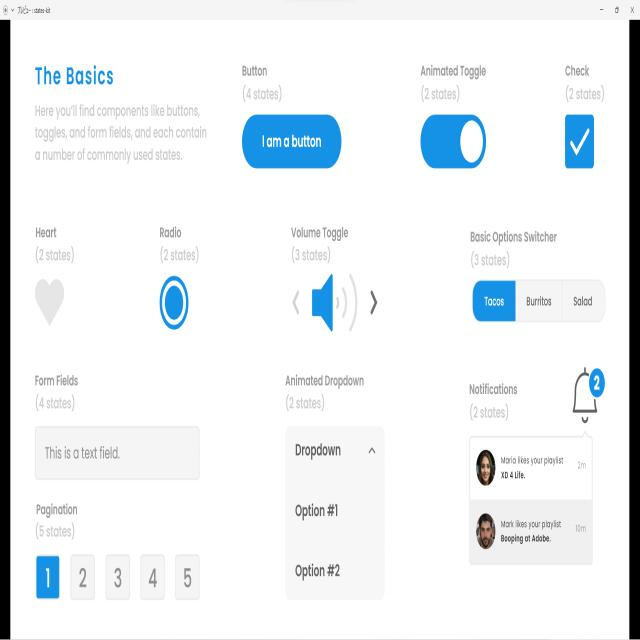checkbox: (565, 111, 594, 168)
radio: (158, 278, 190, 332)
toggle: (418, 112, 488, 172)
